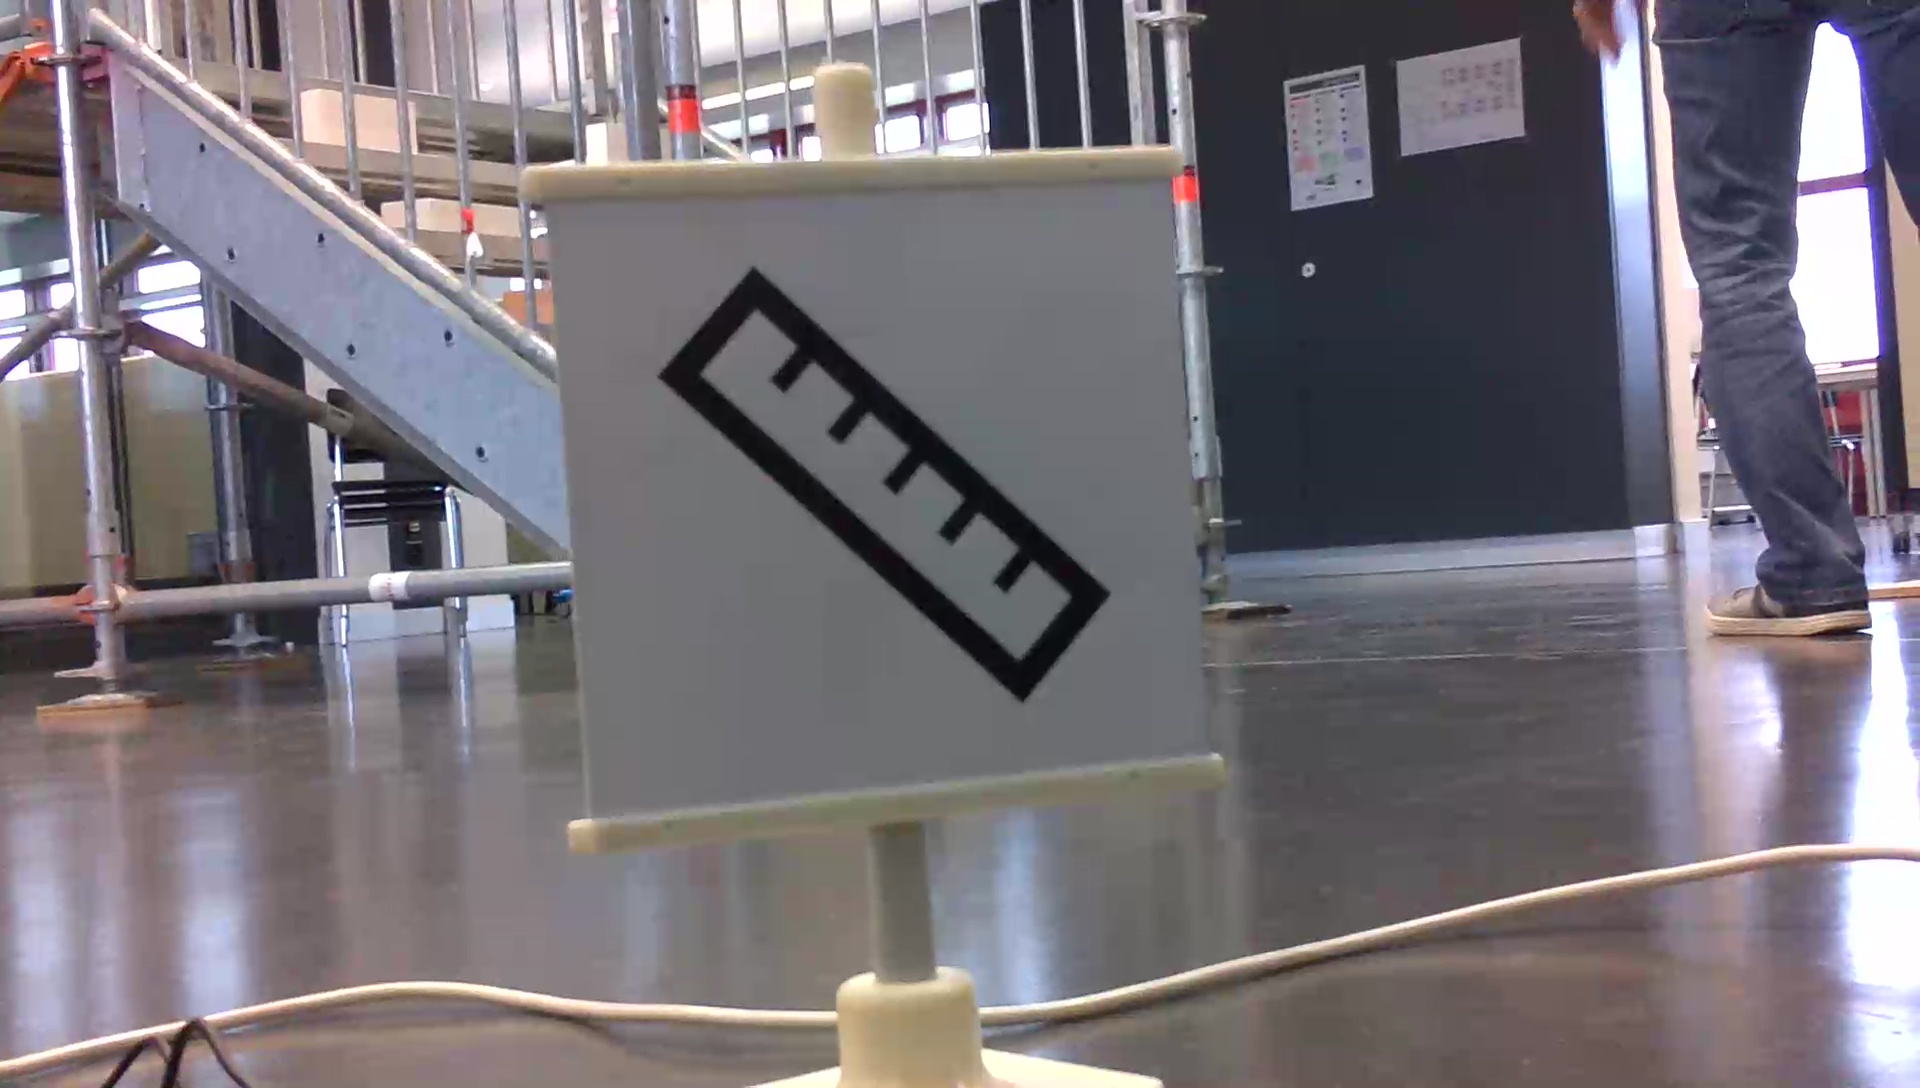ruler: (651, 261, 1113, 708)
